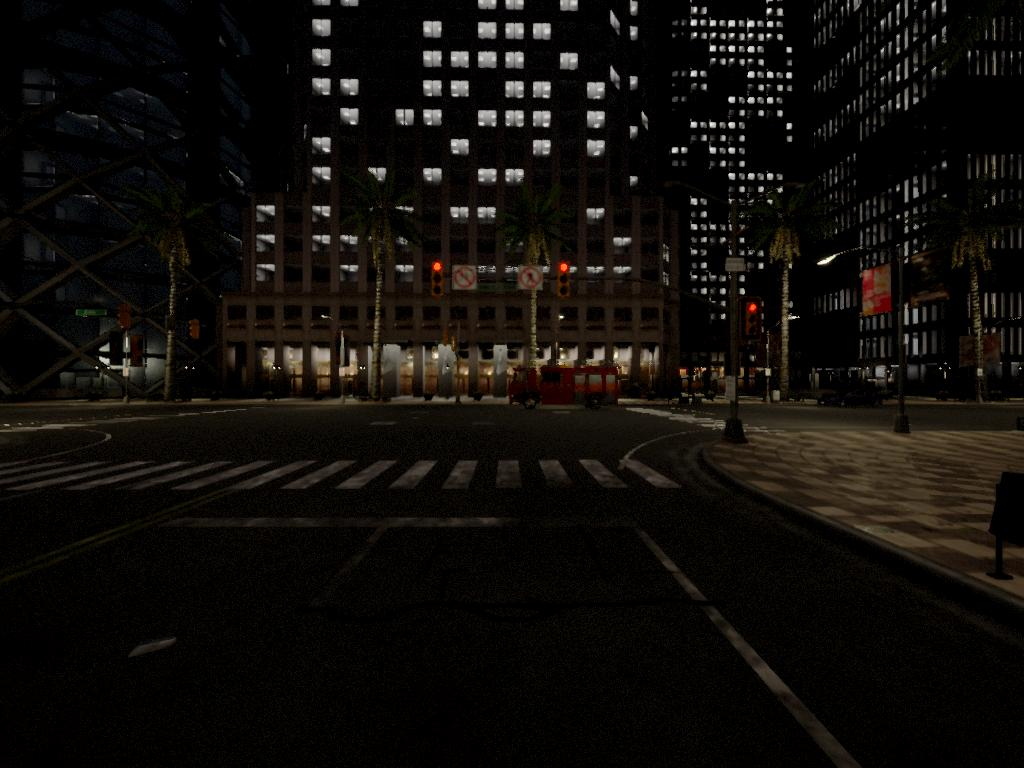traffic_light: (746, 301, 767, 340), (556, 266, 574, 300), (431, 264, 446, 297)
